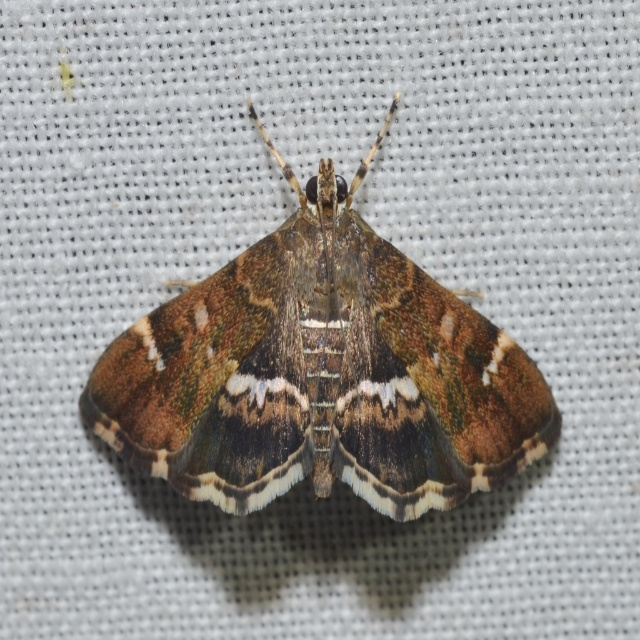Butterfly: (84, 90, 549, 555)
